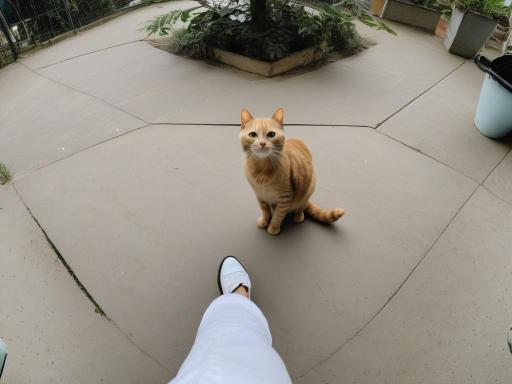cat_sitting: (239, 108, 344, 235)
